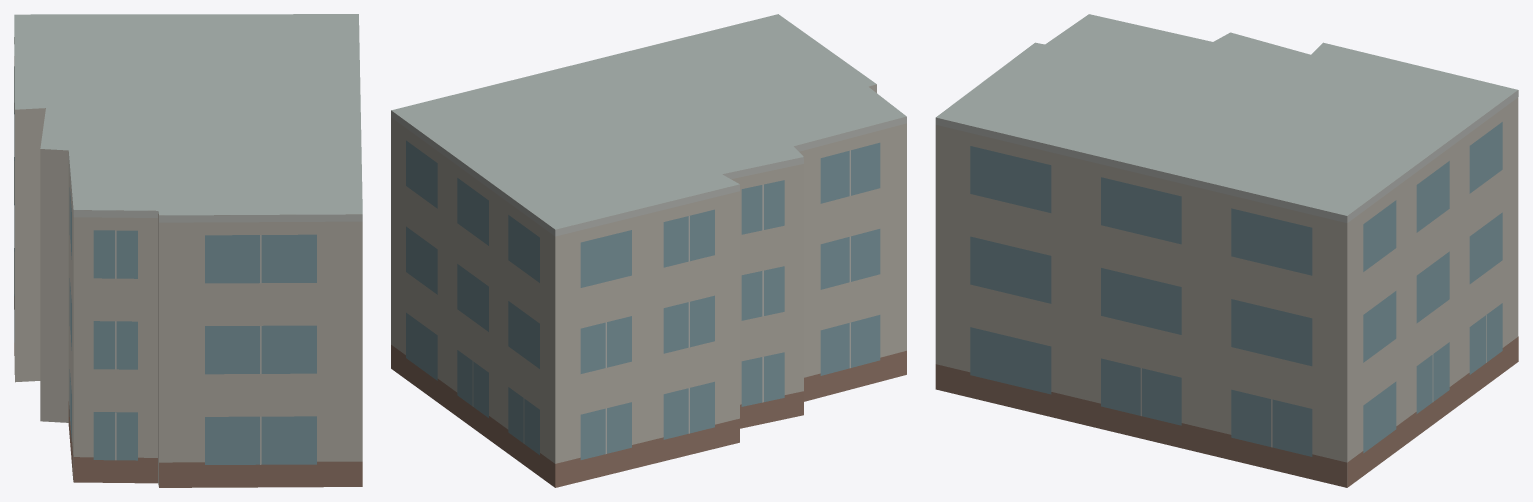
Rendered from survey-upis-32820935.glb.
3 renders of one model, left to right at view 1: azimuth 30°, elevation 25°; view 2: azimuth 150°, elevation 25°; view 3: azimuth 270°, elevation 25°, orthographic. The views are drawn at different scales.
Parts seen in each view (by area): view 1: survey-upis-32820935.tmp; view 2: survey-upis-32820935.tmp; view 3: survey-upis-32820935.tmp.
Boxes of the visible parts, x1,y1,x2,y2 form: survey-upis-32820935.tmp: (14, 14, 362, 487); survey-upis-32820935.tmp: (391, 14, 906, 487); survey-upis-32820935.tmp: (935, 14, 1518, 487).
Bounding box in the file's own units: 14.59 × 9.15 × 17.78.
